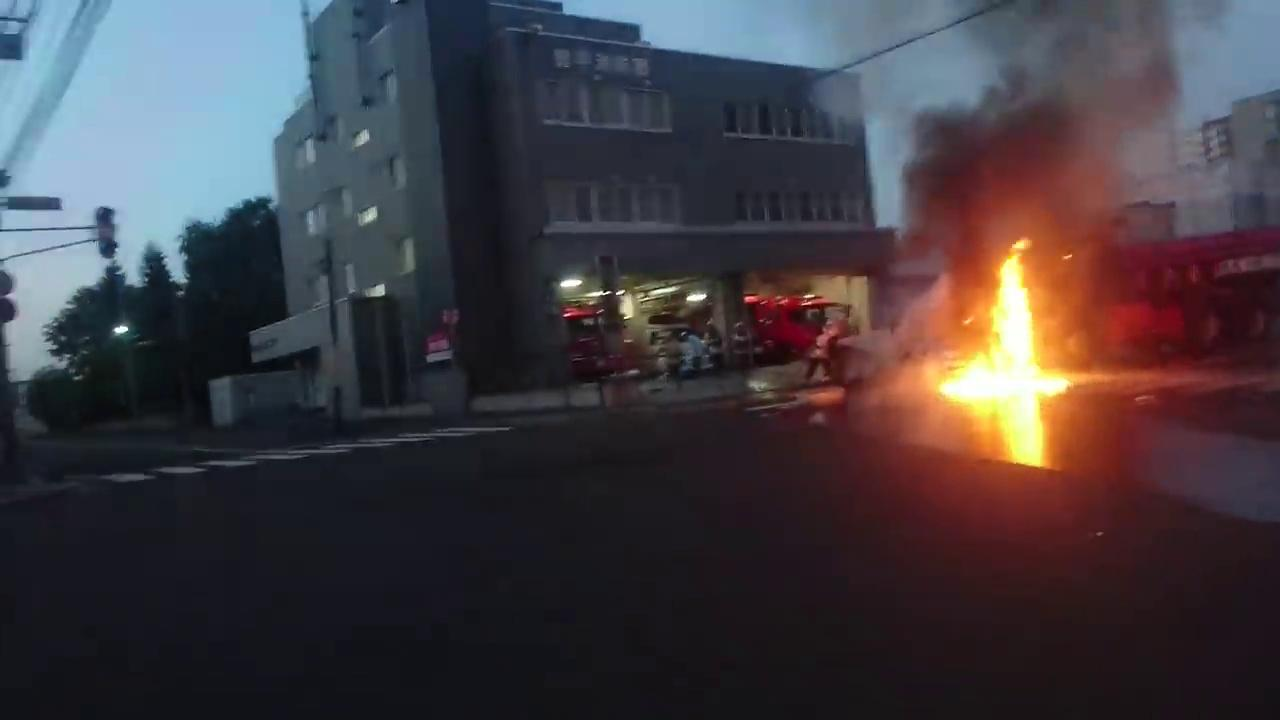Fire: (942, 240, 1071, 401)
